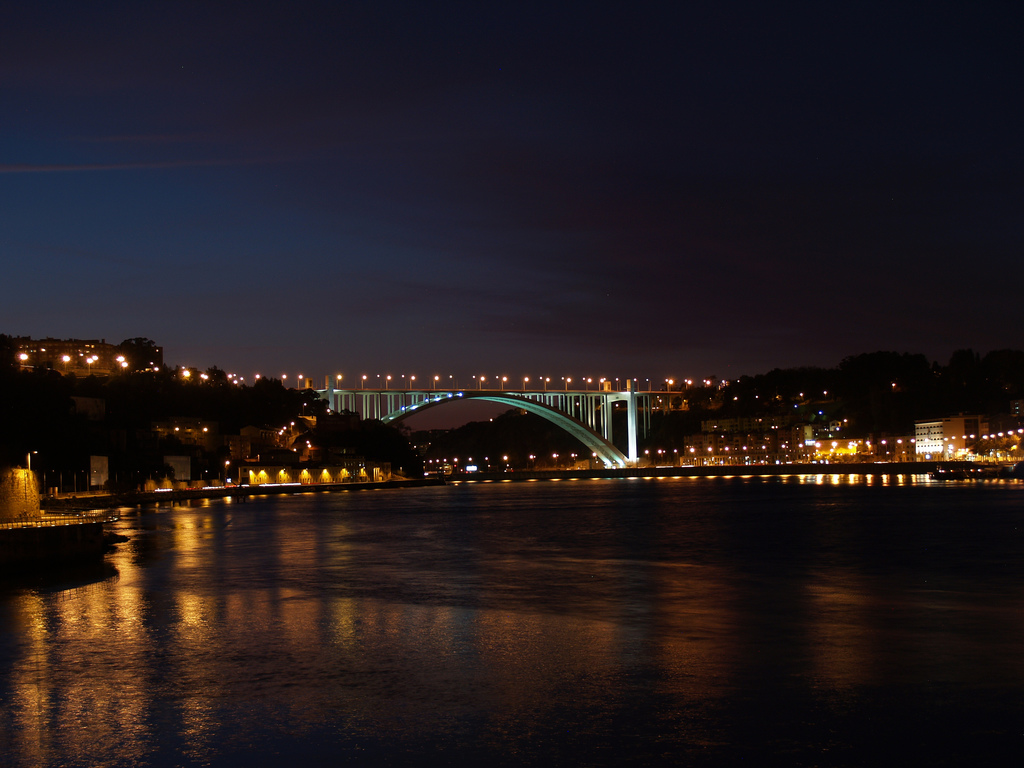arrabida: (299, 382, 700, 470)
